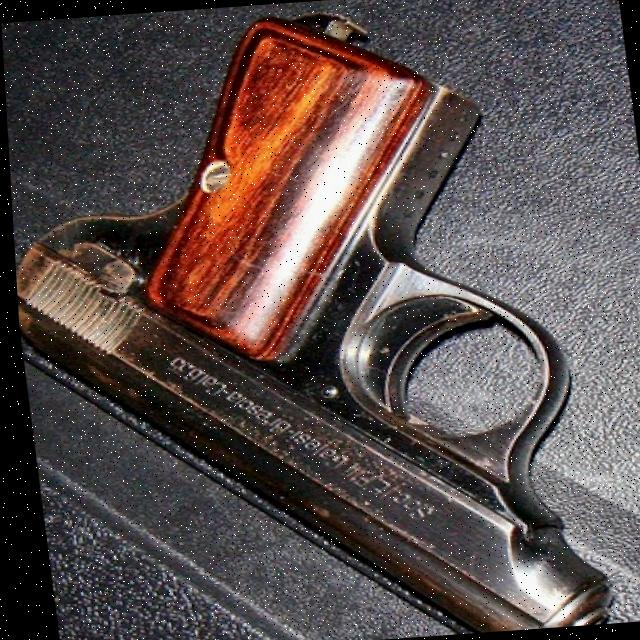pistol: (0, 0, 621, 640)
